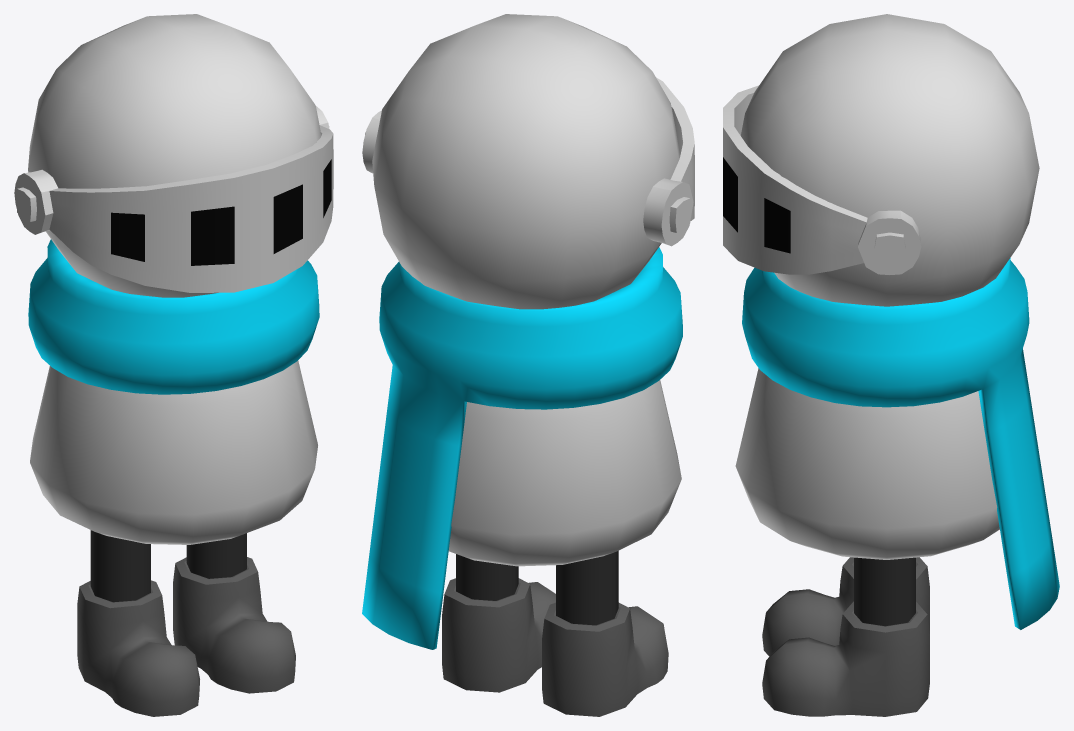
The model's file is Peon.fbx.
3 views of the same model, side by side, from view 1: azimuth 30°, elevation 25°; view 2: azimuth 150°, elevation 25°; view 3: azimuth 270°, elevation 25° (orthographic). The views are drawn at different scales.
Visible parts, largest first — view 1: Peon; view 2: Peon; view 3: Peon.
Boxes of the visible parts, <box> form: Peon: <box>14,14,333,716</box>; Peon: <box>362,14,694,716</box>; Peon: <box>723,14,1059,716</box>.
Size of the model in its own units: 1.19 by 2.4 by 1.13.
